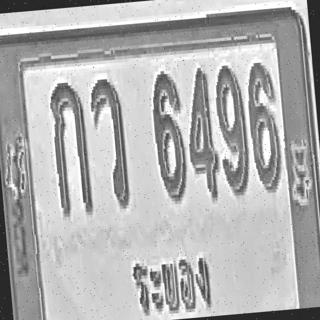A01: (42, 69, 99, 230)
A37: (88, 63, 134, 217)
N04: (180, 59, 226, 211)
N06: (144, 63, 197, 221), (238, 44, 285, 209)
N09: (210, 48, 252, 219)
P53: (115, 229, 234, 320)
